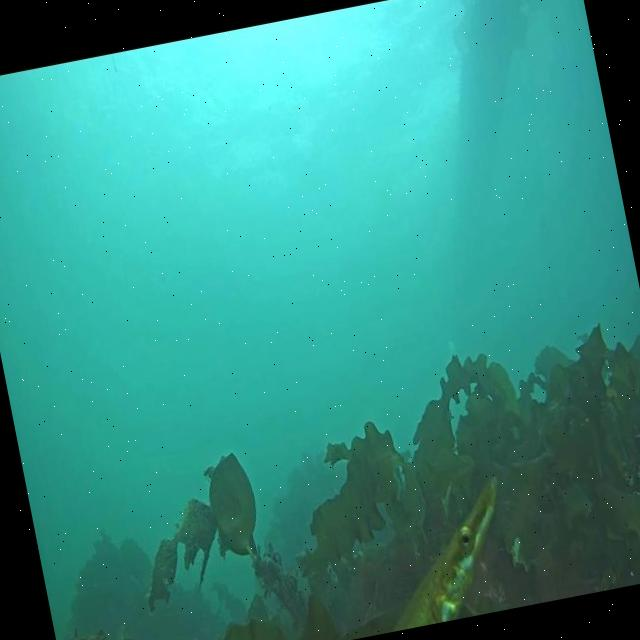fish: (370, 479, 520, 627)
